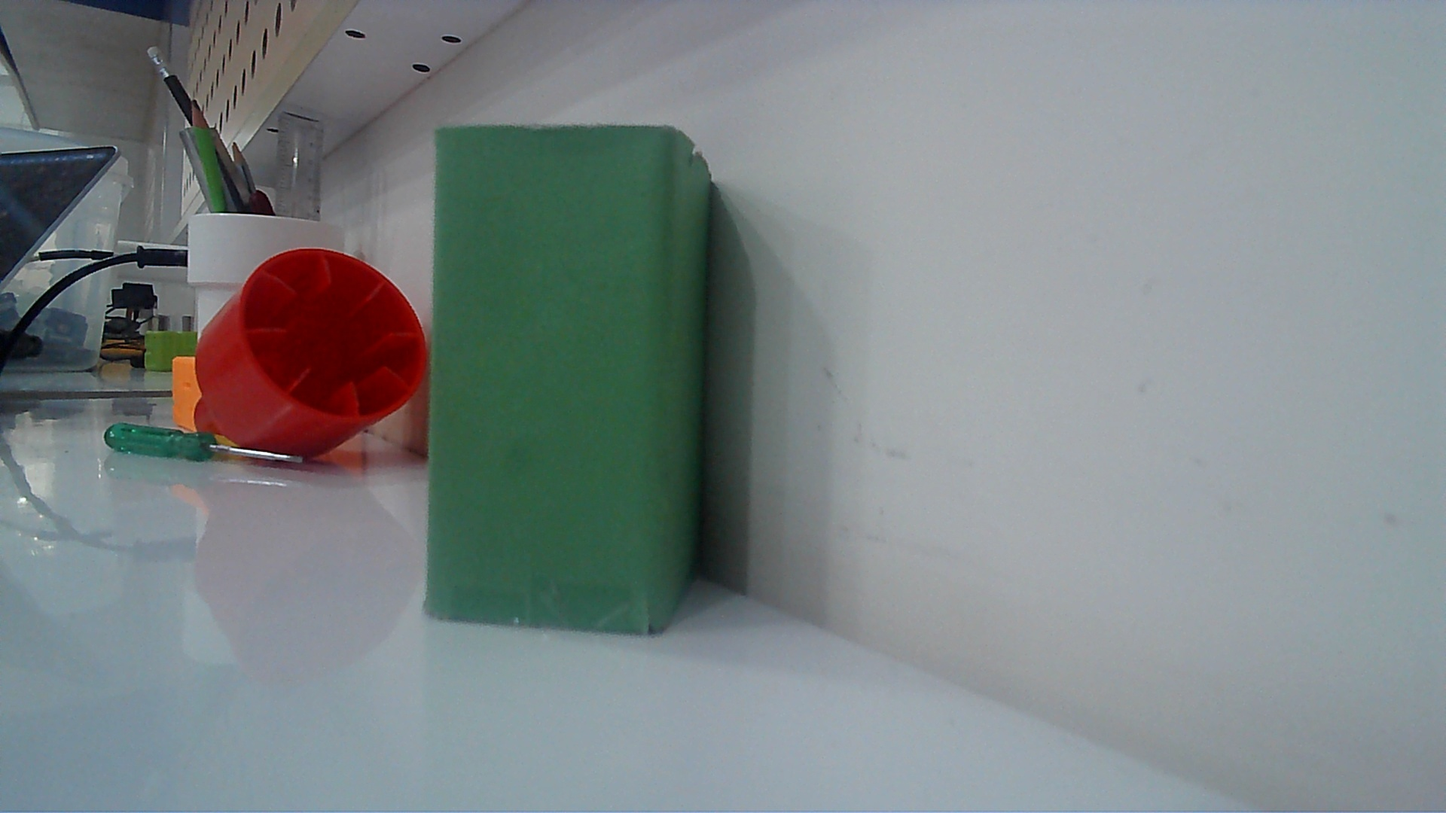green: (412, 107, 729, 638)
